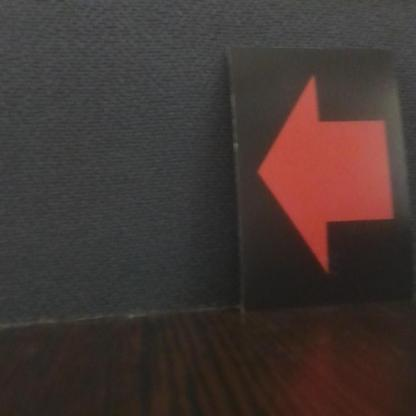left: (225, 47, 416, 301)
